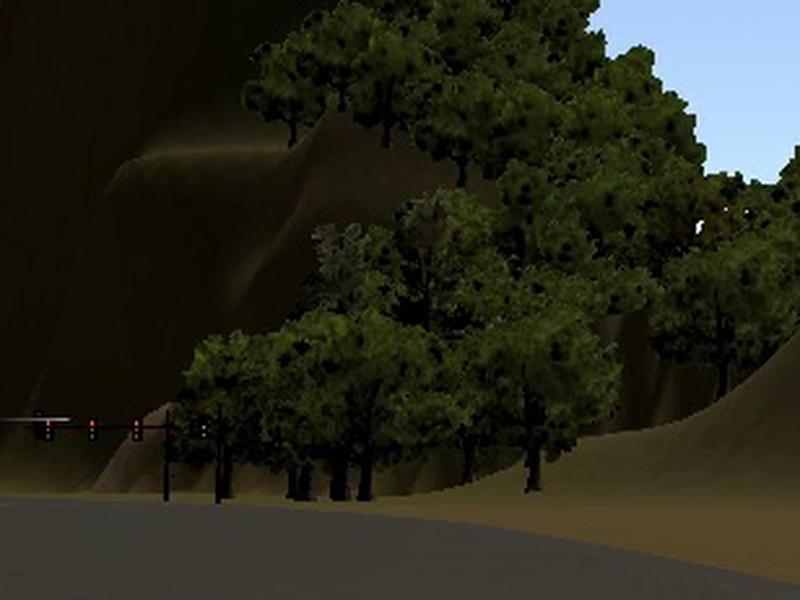Red: (131, 417, 142, 441), (87, 418, 96, 440)
